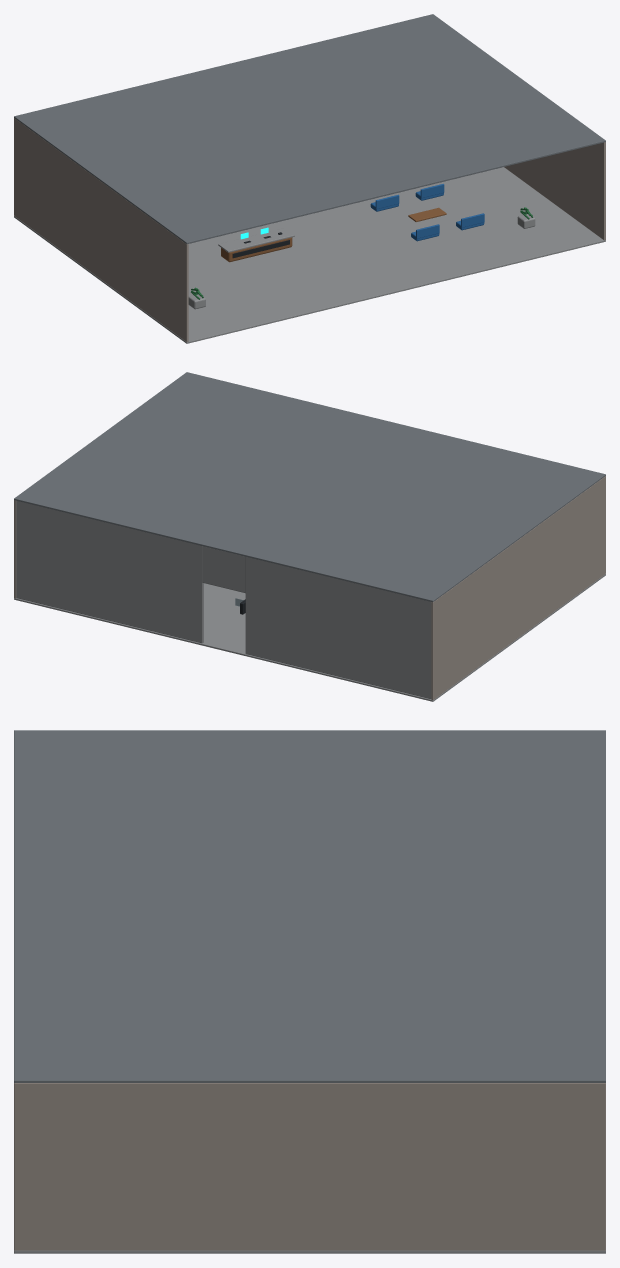
The model's file is hq-lobby.glb.
3 renders of one model, top to bottom at view 1: azimuth 30°, elevation 25°; view 2: azimuth 150°, elevation 25°; view 3: azimuth 270°, elevation 25°, orthographic. The views are drawn at different scales.
Parts seen in each view (by area): view 1: BATCH_02_MAT_Concrete, BATCH_07_MAT_Stone, BATCH_05_MAT_Plaster, BATCH_01_MAT_CanvasBlue, BATCH_09_MAT_Wood; view 2: BATCH_02_MAT_Concrete, BATCH_07_MAT_Stone, BATCH_05_MAT_Plaster; view 3: BATCH_02_MAT_Concrete, BATCH_05_MAT_Plaster, BATCH_07_MAT_Stone.
Boxes of the visible parts, x1,y1,x2,y2 form: BATCH_02_MAT_Concrete: (14, 14, 605, 244); BATCH_07_MAT_Stone: (14, 167, 605, 343); BATCH_05_MAT_Plaster: (14, 118, 605, 341); BATCH_01_MAT_CanvasBlue: (370, 184, 484, 241); BATCH_09_MAT_Wood: (221, 207, 446, 262); BATCH_02_MAT_Concrete: (14, 372, 605, 602); BATCH_07_MAT_Stone: (14, 500, 605, 701); BATCH_05_MAT_Plaster: (14, 476, 605, 699); BATCH_02_MAT_Concrete: (14, 730, 605, 1082); BATCH_05_MAT_Plaster: (14, 1083, 605, 1250); BATCH_07_MAT_Stone: (14, 1250, 605, 1253).
Size of the model in its own units: 42.02 by 9.69 by 30.
